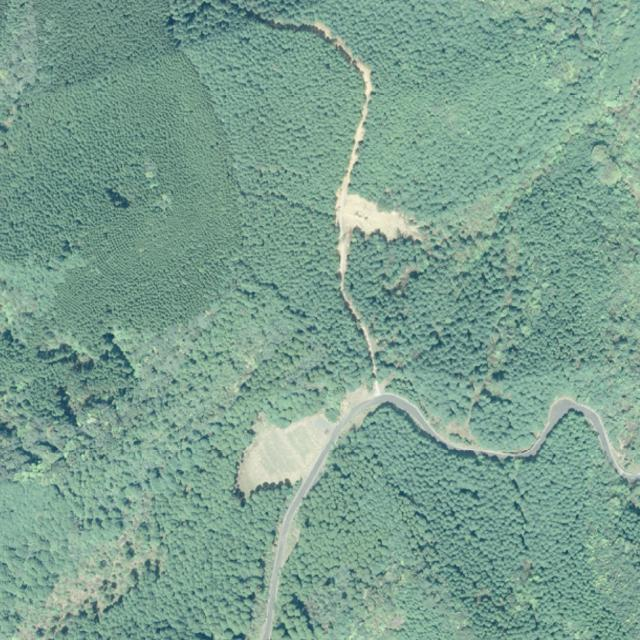landslide: (256, 15, 423, 391)
